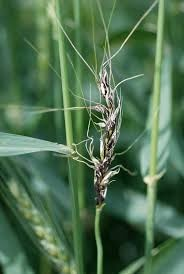Wheat Loose Smut: (82, 67, 124, 193)
